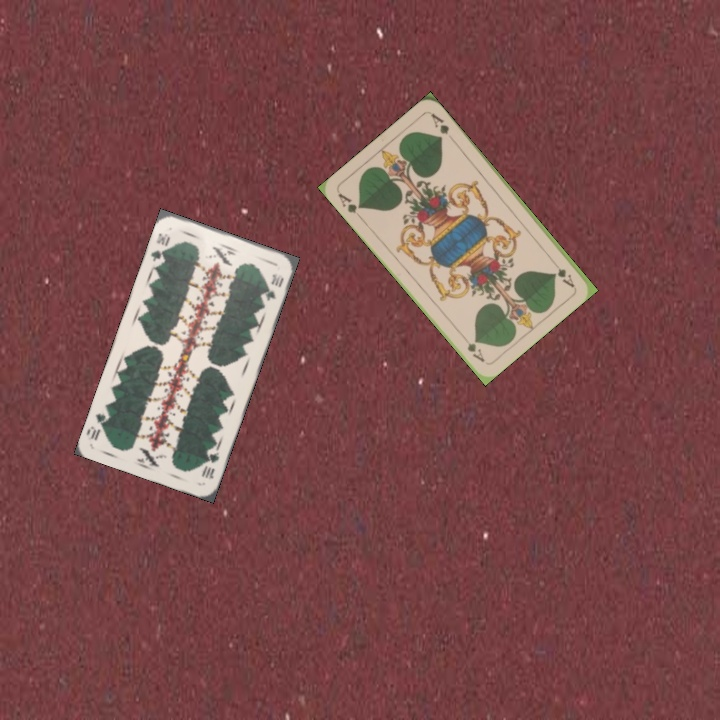G10: (197, 444, 222, 482), (147, 229, 173, 264)
GA: (334, 189, 365, 222), (553, 264, 577, 290)
